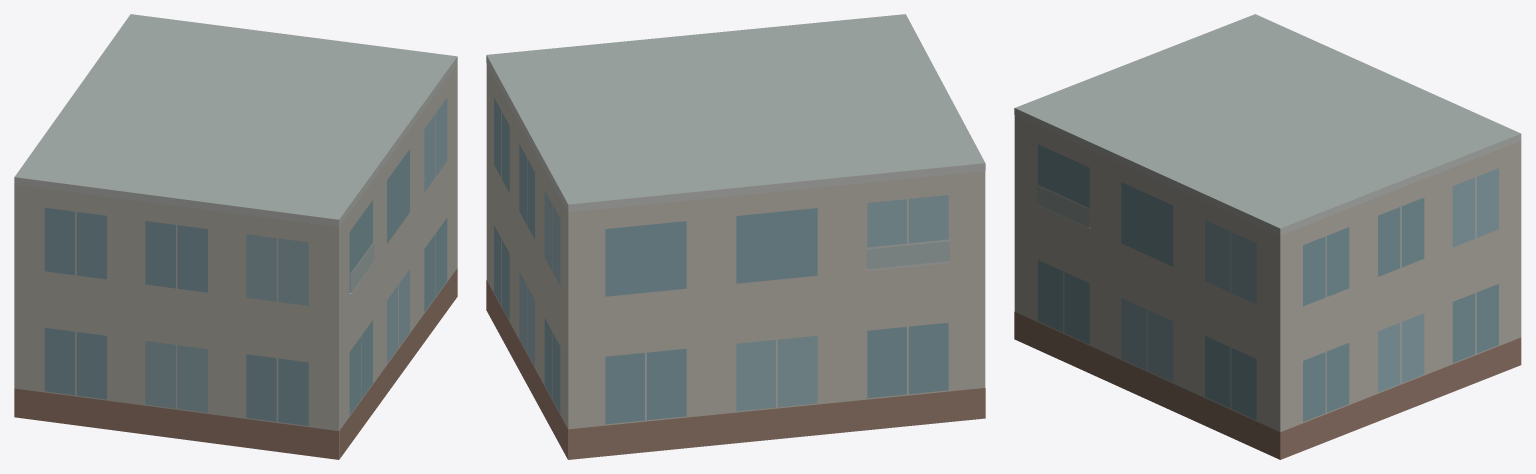
The model's file is survey-upis-32856296.glb.
3 renders of one model, left to right at view 1: azimuth 30°, elevation 25°; view 2: azimuth 150°, elevation 25°; view 3: azimuth 270°, elevation 25°, orthographic. The views are drawn at different scales.
Parts seen in each view (by area): view 1: survey-upis-32856296.tmp; view 2: survey-upis-32856296.tmp; view 3: survey-upis-32856296.tmp.
Part boxes in pixels (x1,y1,x2,y2): survey-upis-32856296.tmp: [14, 14, 457, 459]; survey-upis-32856296.tmp: [486, 14, 985, 459]; survey-upis-32856296.tmp: [1014, 14, 1521, 459].
Size of the model in its own units: 15.82 by 7.95 by 15.79.
